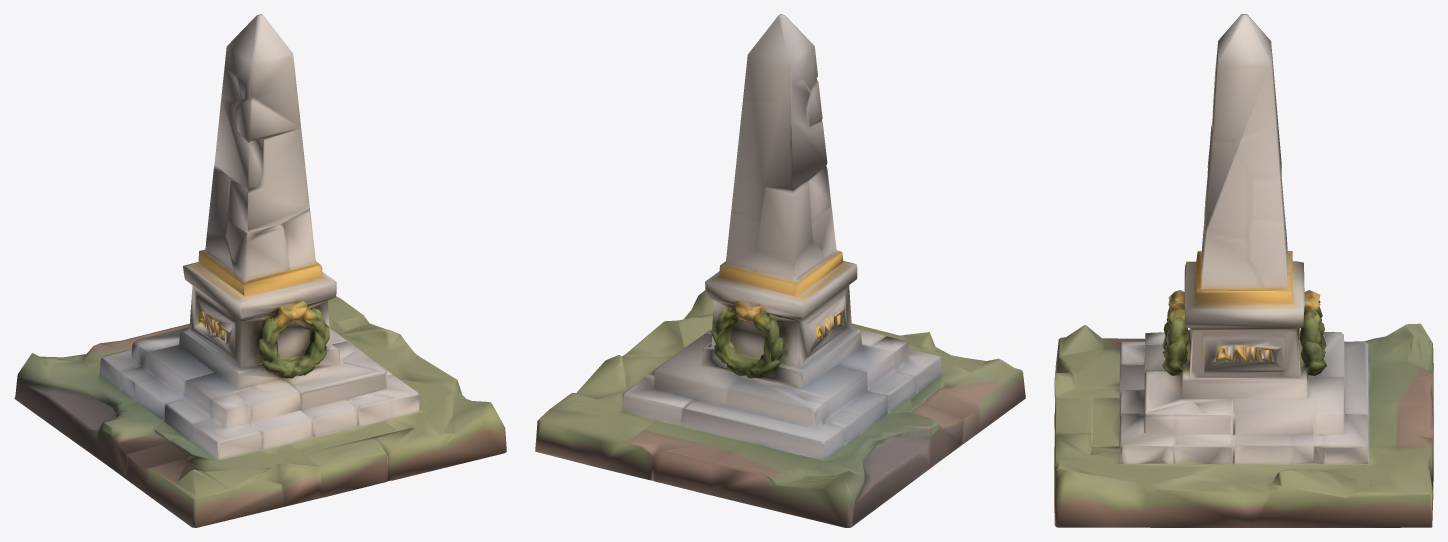
File: anit.glb
3 views of the same model, side by side, from view 1: azimuth 30°, elevation 25°; view 2: azimuth 150°, elevation 25°; view 3: azimuth 270°, elevation 25° (orthographic). The views are drawn at different scales.
Parts seen in each view (by area): view 1: node_0; view 2: node_0; view 3: node_0.
Part boxes in pixels (x1,y1,x2,y2): node_0: [14, 14, 506, 527]; node_0: [535, 14, 1025, 527]; node_0: [1054, 14, 1433, 527].
Size of the model in its own units: 0.6455 by 0.7984 by 0.6358.
1 material, 1 textured.
